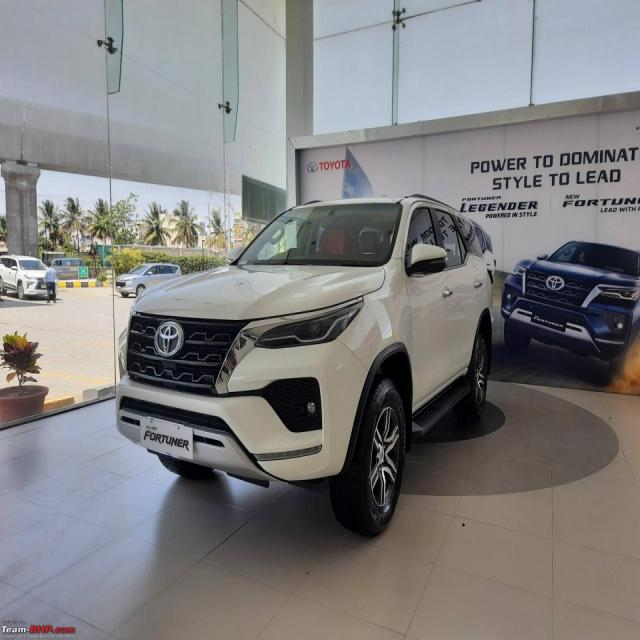light_vehicle: (115, 263, 183, 298)
